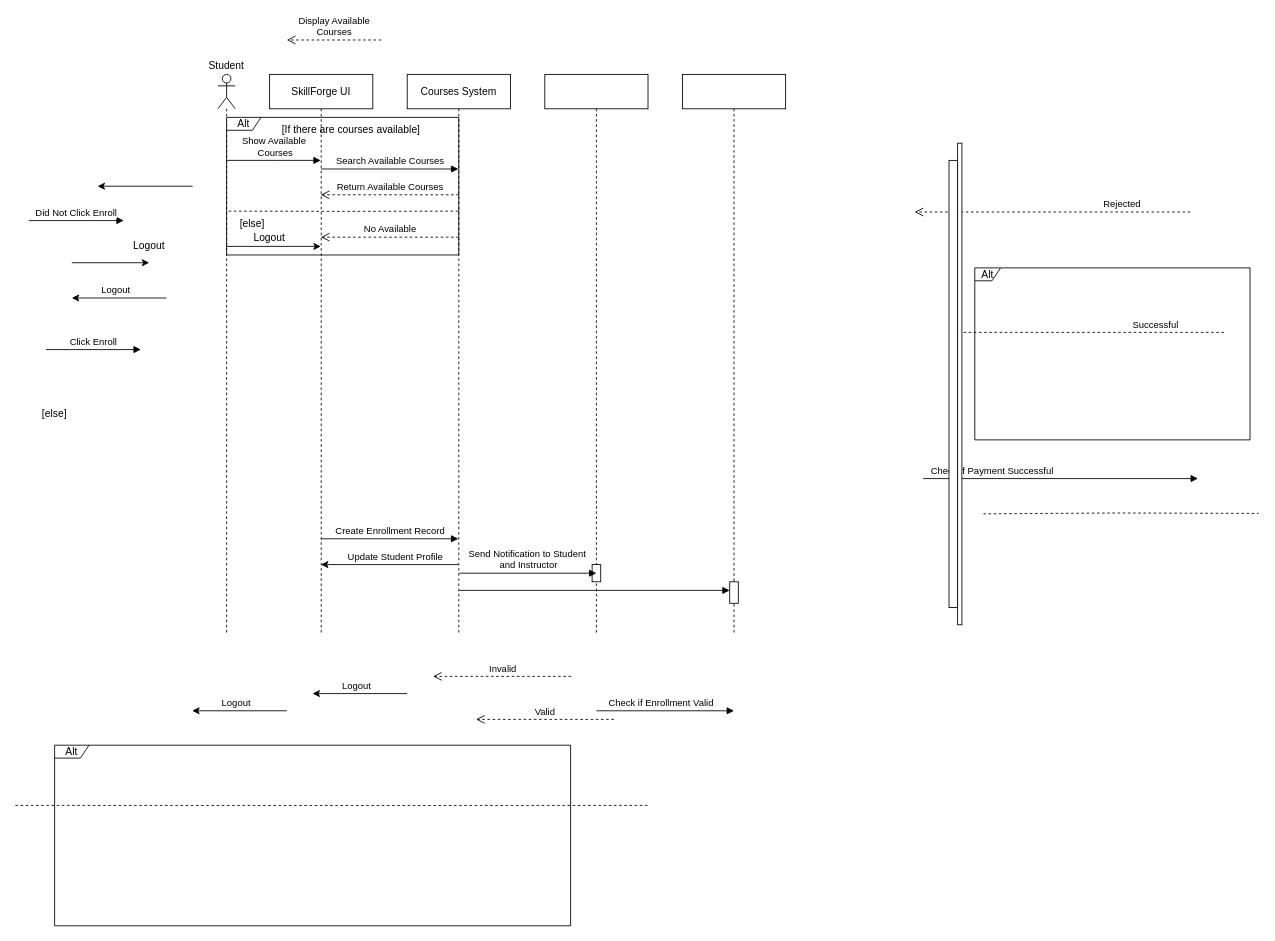
This 1275x941 diagram has some shape labels left out. The box of each missing label's shape, as (x1, y1, x2, y2) in pixels:
Analytics System: (682, 74, 786, 633)
Messaging System: (544, 74, 648, 633)
